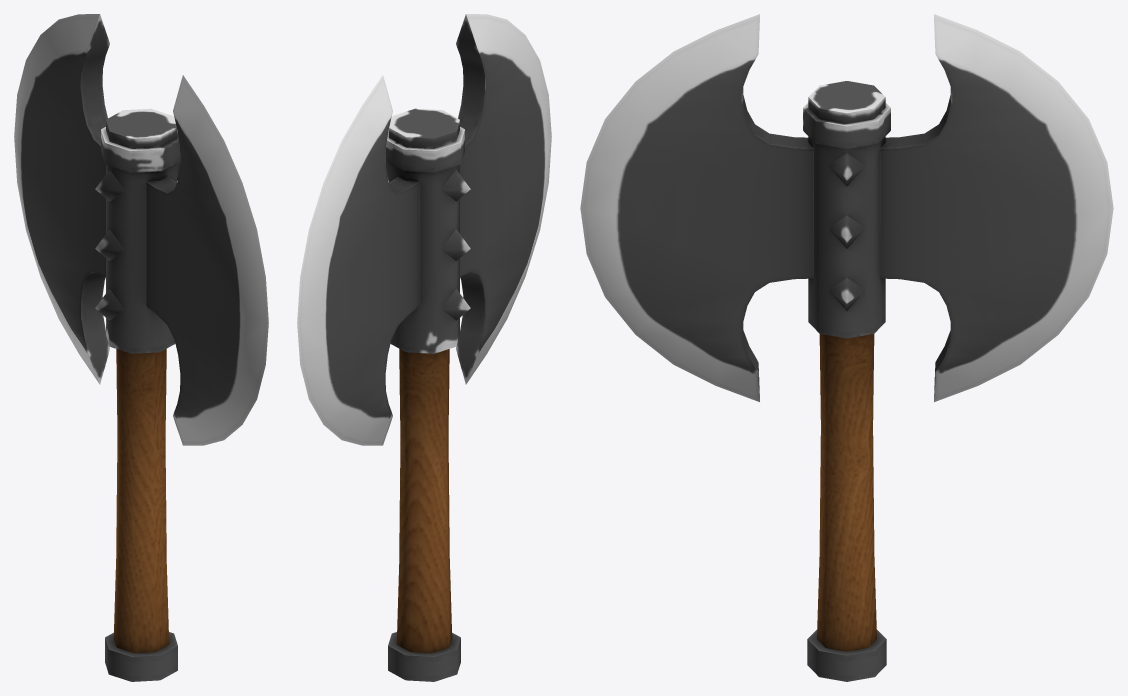
Rendered from MeleeWeaponAgent_Axe.fbx.
The picture shows the model from 3 angles, left to right: view 1: azimuth 30°, elevation 25°; view 2: azimuth 150°, elevation 25°; view 3: azimuth 270°, elevation 25°; orthographic projection. The views are drawn at different scales.
Visible parts, largest first — view 1: Pfb_Axe; view 2: Pfb_Axe; view 3: Pfb_Axe.
Boxes of the visible parts, box(x1,y1,x2,y2) form: Pfb_Axe: box(14, 14, 268, 681); Pfb_Axe: box(297, 14, 551, 681); Pfb_Axe: box(580, 14, 1113, 681).
Size of the model in its own units: 0.2233 by 1.43 by 1.06.
